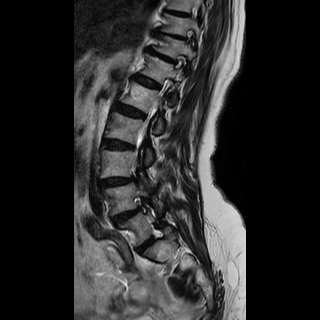RFS3: (129, 190, 155, 219)
